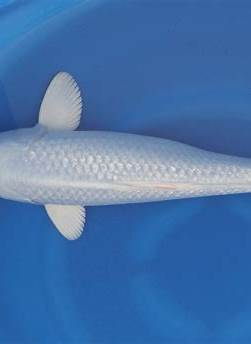white: (1, 71, 251, 241)
